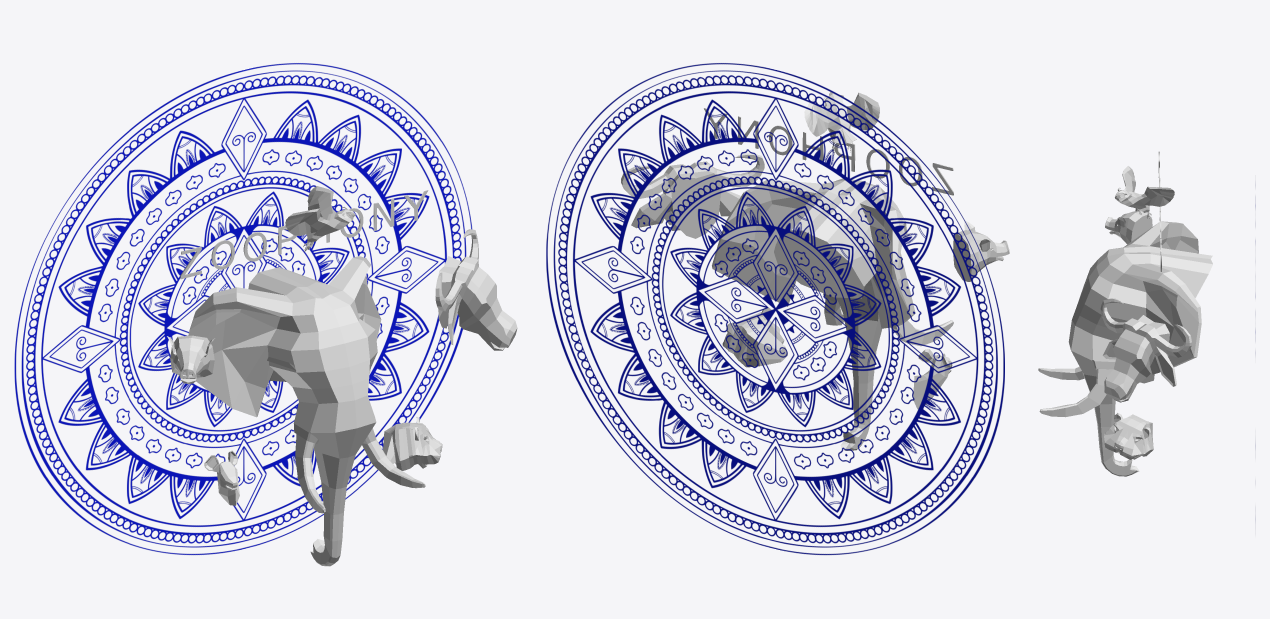
File: composition2.glb
The picture shows the model from 3 angles, left to right: view 1: azimuth 30°, elevation 25°; view 2: azimuth 150°, elevation 25°; view 3: azimuth 270°, elevation 25°; orthographic projection. The views are drawn at different scales.
Parts seen in each view (by area): view 1: path839, Cube.004, Cube.003, Cube.002, Cube.005, Text.002, Cube.010, Cube.012; view 2: path839, Cube.004, Cube.003, Cube.002, Cube.005, Text.002, Cube.010, Cube.012; view 3: Cube.004, Cube.003, Cube.002, Cube.005, Cube.010.
Boxes of the visible parts, x1,y1,x2,y2 form: path839: (14,63,472,554); Cube.004: (188,256,425,566); Cube.003: (435,229,517,350); Cube.002: (383,417,442,470); Cube.005: (283,186,355,251); Text.002: (180,190,428,279); Cube.010: (167,335,214,383); Cube.012: (204,450,239,505); path839: (546,63,1004,554); Cube.004: (712,178,953,450); Cube.003: (621,153,764,238); Cube.002: (722,307,787,367); Cube.005: (804,92,879,154); Text.002: (704,108,953,195); Cube.010: (953,220,1009,281); Cube.012: (913,349,952,409); Cube.004: (1038,221,1212,476); Cube.003: (1100,298,1191,402); Cube.002: (1104,413,1153,459); Cube.005: (1115,166,1174,219); Cube.010: (1105,208,1152,244).
Bounding box in the file's own units: 50.06 × 49.96 × 24.48.
Materials: 7 (1 with a texture image).
